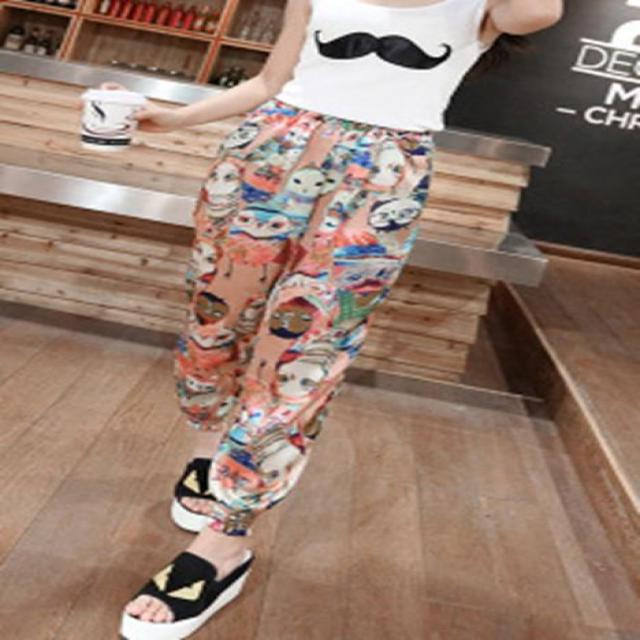trousers: (172, 96, 427, 532)
vest: (275, 1, 488, 129)
